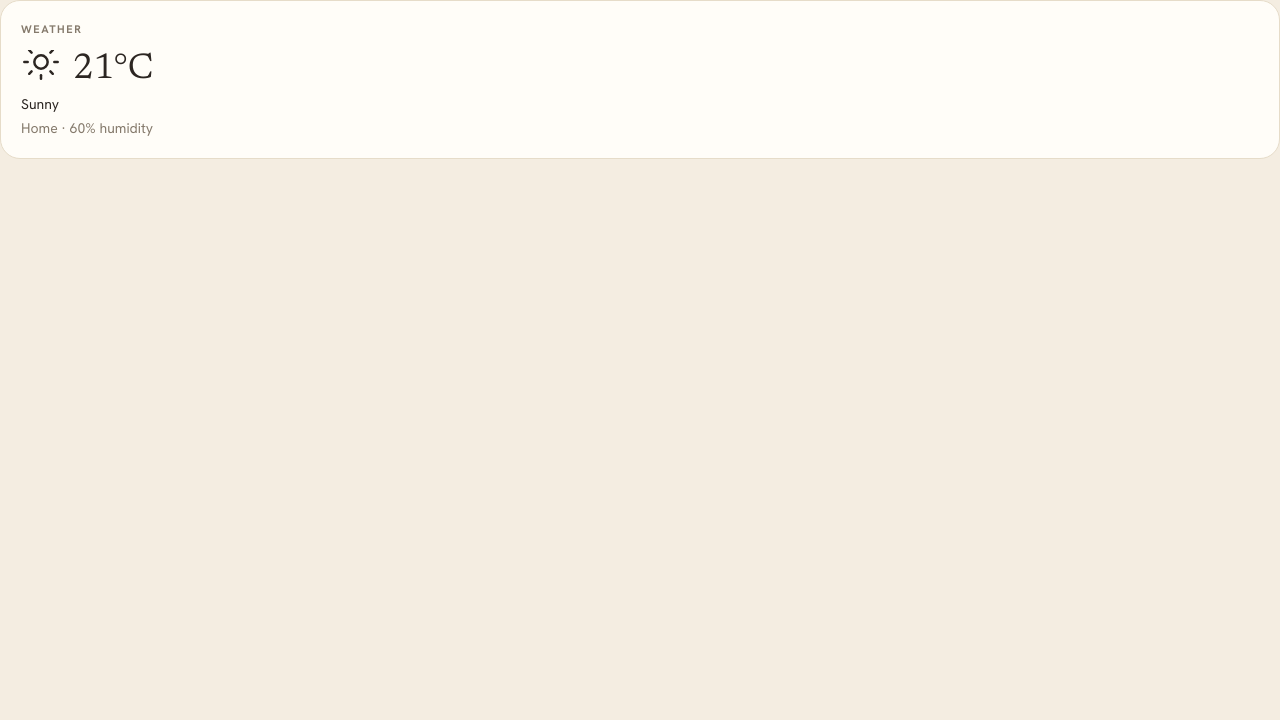
WeatherWidget › reports when the forecast could not be fetched
This screenshot has width=1280, height=720.
Click the text "Sunny". click: [40, 104]
box: top-left (21, 94), bottom-right (59, 114)
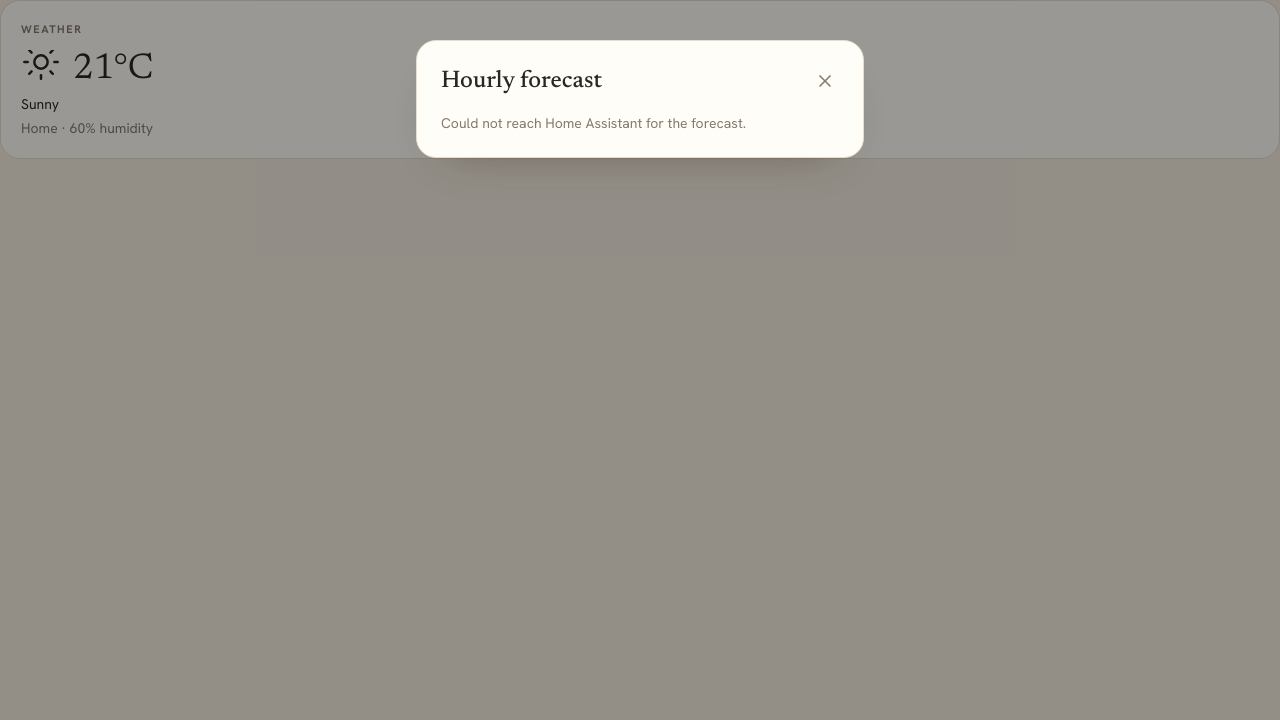
Now the text "Could not reach Home Assistant for the forecast." is shown, box top-left (441, 114), bottom-right (746, 132)
